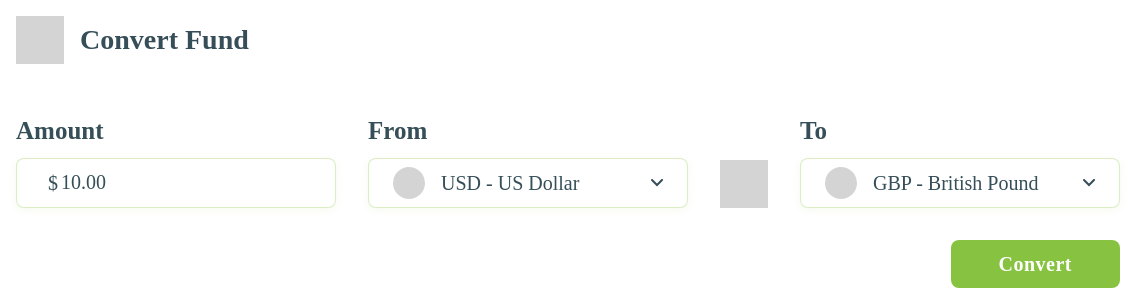
it: Converter Component › Loading State › should show loading state during conversion
Click the button "Convert" at [1035, 264], box [950, 240, 1120, 288]
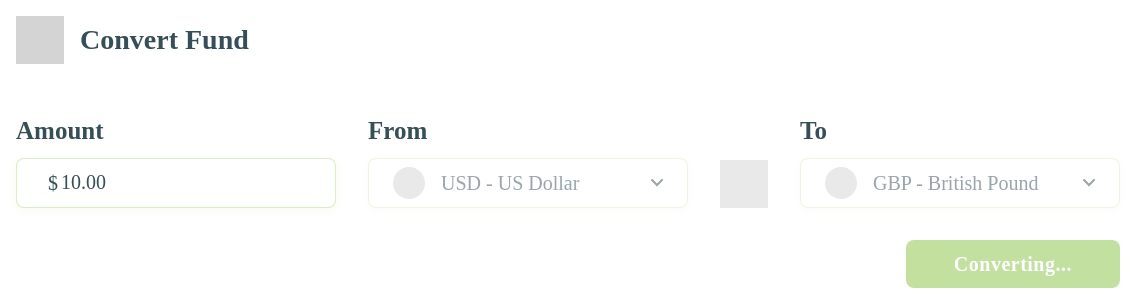
Now the button "Converting..." is disabled, box [906, 240, 1120, 288]
